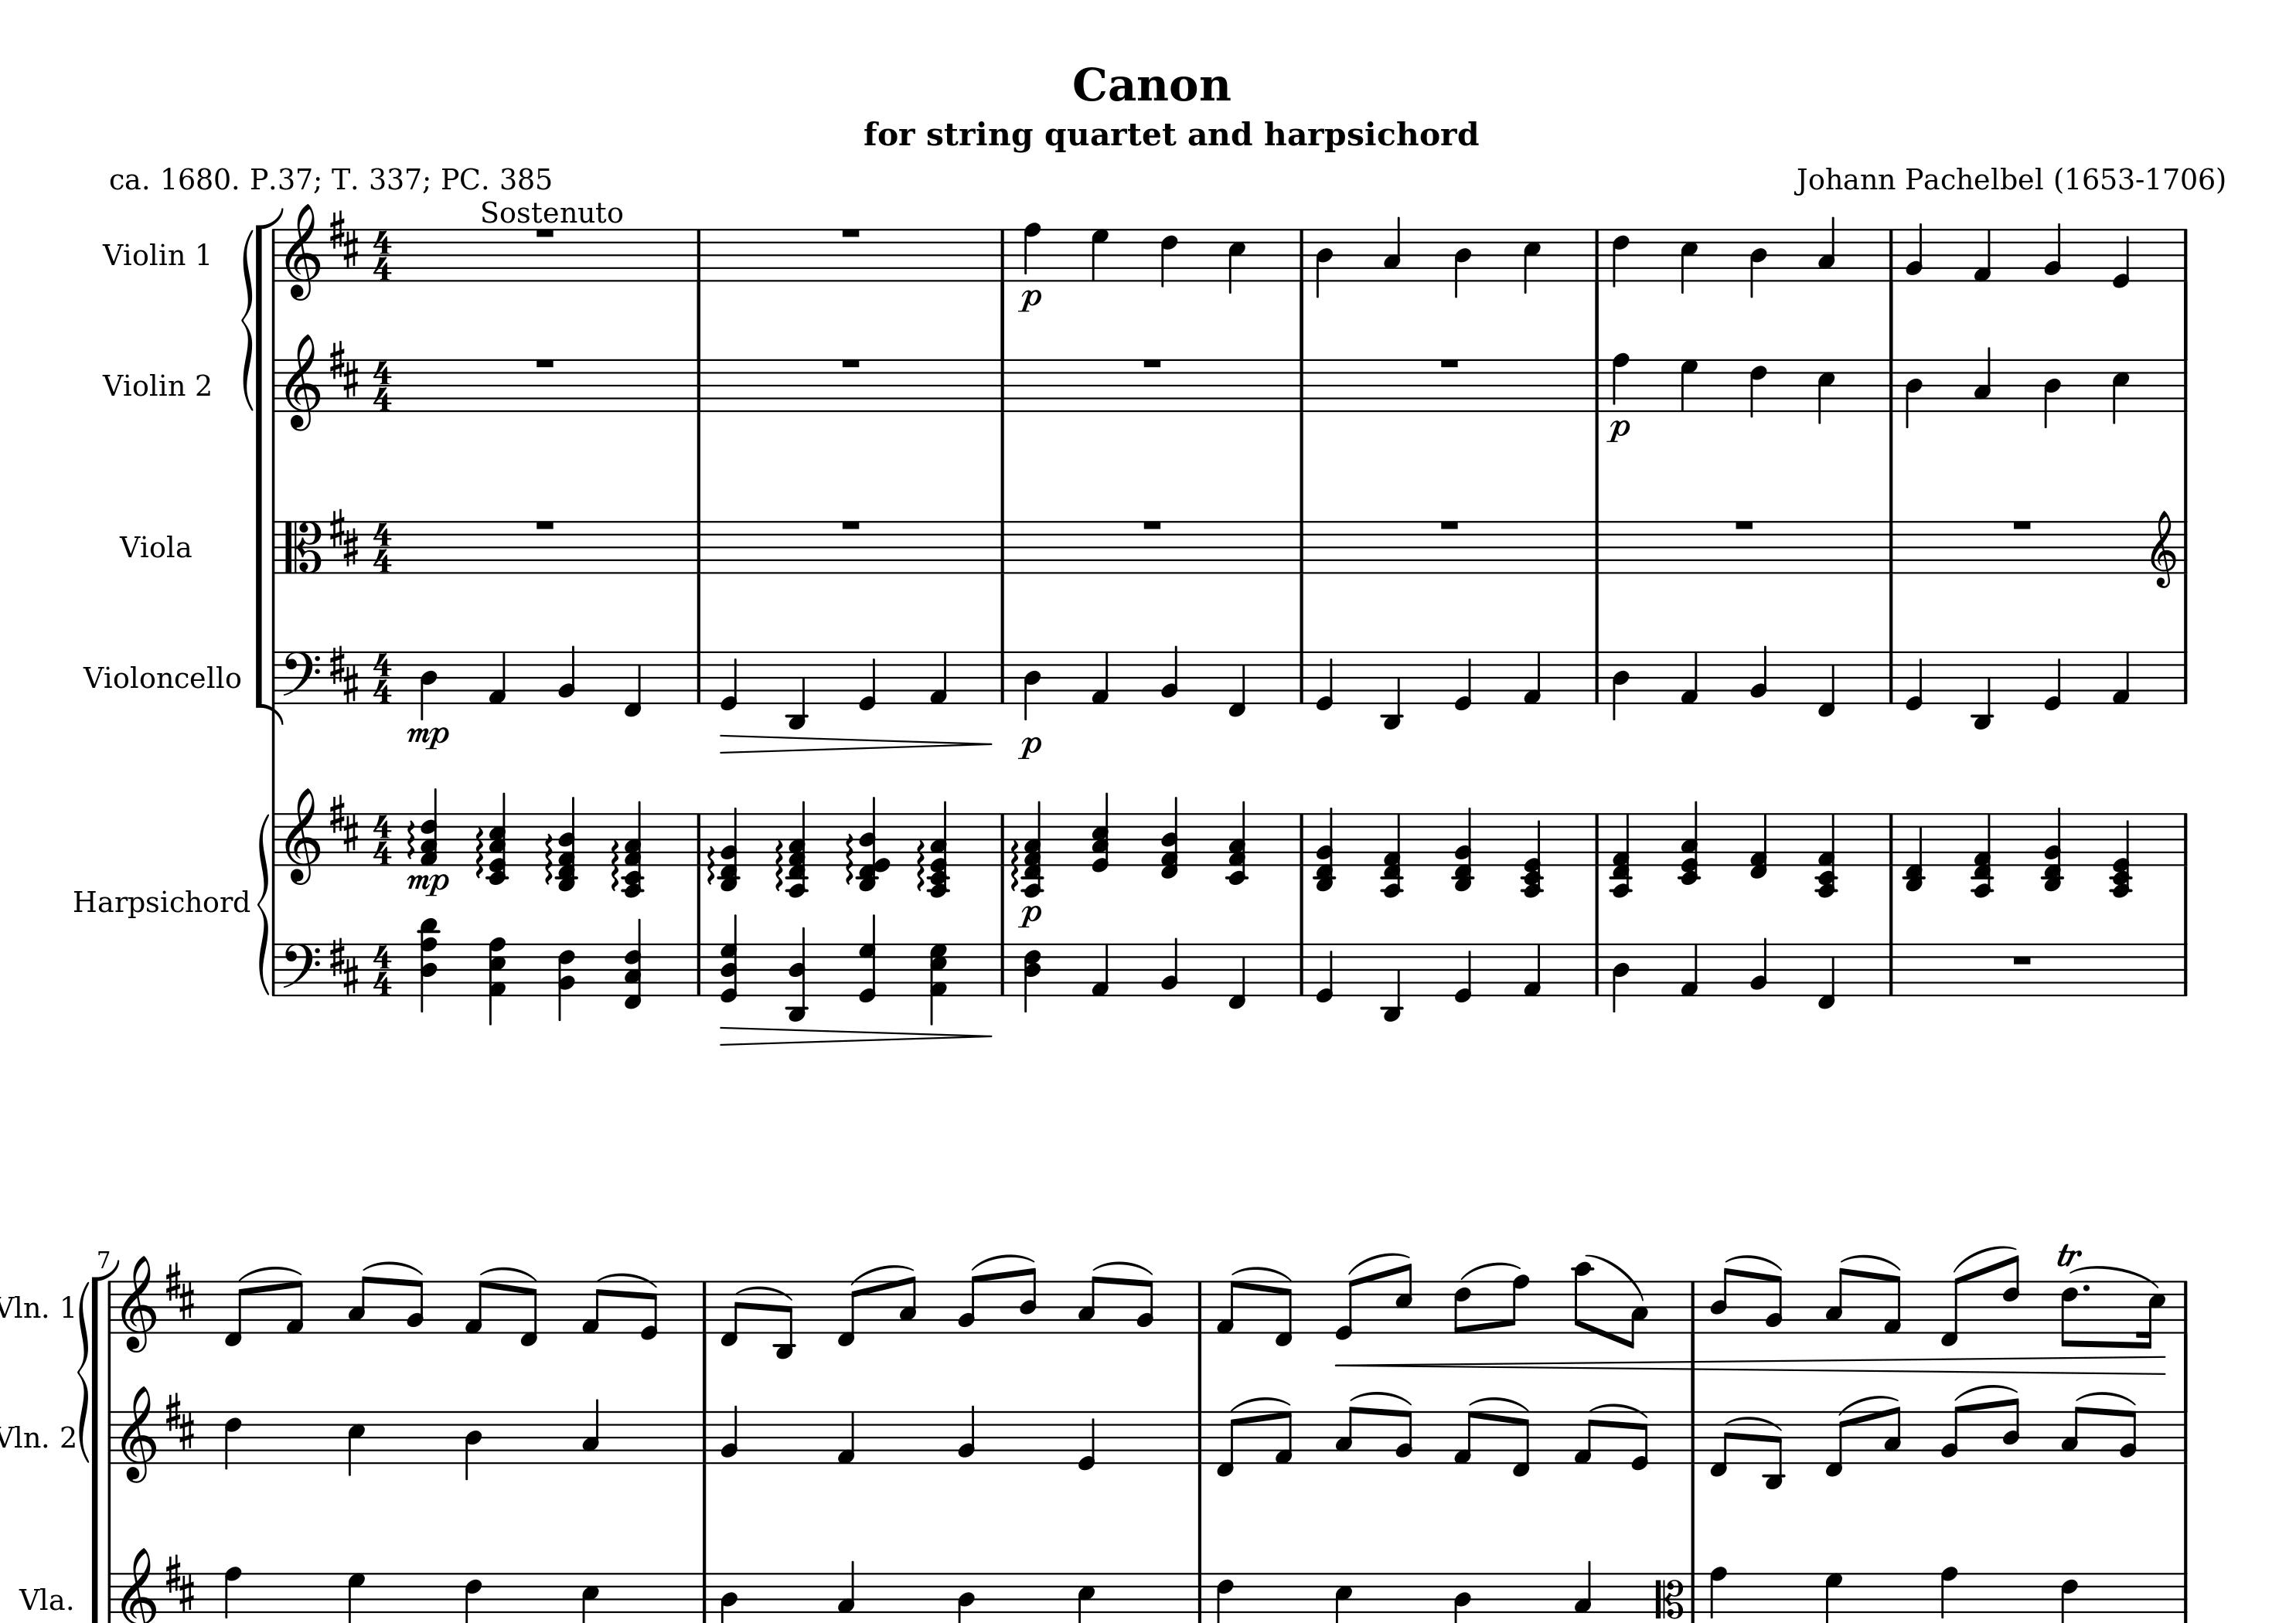16_5: (2136, 1279, 2166, 1351)
4: (371, 941, 393, 970), (371, 970, 393, 996), (372, 228, 393, 255), (372, 253, 393, 279), (372, 385, 393, 411), (372, 520, 393, 546), (372, 546, 393, 573), (371, 676, 392, 703), (372, 811, 393, 838), (372, 838, 393, 864), (372, 357, 392, 385), (372, 650, 392, 676)
4_-1: (622, 648, 643, 718), (1226, 648, 1247, 718), (1816, 648, 1838, 718), (1226, 940, 1247, 1010), (1816, 940, 1838, 1010)
4_-1_1: (1748, 811, 1769, 878)
4_-3: (785, 646, 808, 731), (1971, 646, 1994, 731), (1381, 940, 1404, 1022), (1381, 648, 1404, 729)
4_-3_-1: (1903, 811, 1929, 892)
4_-3_4: (785, 927, 810, 1022)
4_0: (718, 648, 740, 711), (1314, 648, 1335, 711), (1314, 940, 1335, 1003), (1453, 940, 1474, 1003), (2112, 227, 2131, 290), (857, 648, 877, 711), (1453, 648, 1472, 711), (1904, 648, 1924, 711), (2043, 648, 2062, 711), (1077, 1409, 1096, 1470)
4_0_7: (857, 915, 878, 1005)
4_1: (487, 650, 508, 706), (1521, 650, 1542, 706), (2110, 648, 2131, 704), (1089, 941, 1110, 998), (1521, 941, 1542, 998), (928, 650, 949, 704), (1089, 650, 1110, 704), (836, 1410, 857, 1465), (1973, 227, 1992, 283), (1679, 941, 1699, 998), (1679, 650, 1699, 704)
4_2: (2043, 220, 2064, 283), (1159, 934, 1180, 998), (1748, 934, 1769, 998), (957, 1402, 978, 1465), (1159, 643, 1180, 704), (1748, 643, 1769, 704), (720, 1403, 741, 1465), (1904, 220, 1924, 283), (557, 643, 576, 704)
4_2_6: (557, 941, 576, 1021)
4_3: (580, 1396, 601, 1465), (1383, 214, 1402, 283), (1816, 214, 1836, 283), (1973, 344, 1992, 413)
4_4: (1022, 648, 1043, 722), (1611, 648, 1632, 722), (1314, 227, 1335, 299), (2043, 357, 2062, 430), (1453, 227, 1472, 299), (1748, 227, 1767, 299), (1904, 357, 1924, 429), (420, 648, 439, 720), (1611, 940, 1630, 1012), (464, 1409, 483, 1481)
4_4_6: (1022, 941, 1042, 1013)
4_5: (1226, 227, 1247, 295), (346, 1409, 367, 1477), (1521, 227, 1541, 295), (1679, 227, 1699, 295), (1816, 357, 1836, 425), (2112, 357, 2131, 425)
4_6: (1748, 357, 1769, 420), (1159, 227, 1179, 290), (1611, 227, 1630, 288), (223, 1409, 242, 1470)
4_7: (1678, 357, 1700, 413), (1089, 227, 1110, 283)
4_8: (1609, 350, 1632, 411), (1021, 221, 1042, 281)
4_th: (857, 794, 891, 894), (778, 803, 805, 898), (926, 801, 950, 898), (416, 917, 441, 1012), (555, 794, 578, 892), (2108, 813, 2134, 898), (1451, 804, 1476, 894), (622, 796, 643, 899), (487, 790, 509, 885), (1678, 799, 1702, 887), (1609, 811, 1634, 899), (485, 933, 508, 1026), (717, 804, 741, 891), (2041, 804, 2064, 894), (1314, 806, 1337, 894), (1224, 799, 1247, 885), (1971, 811, 1994, 898), (1381, 811, 1404, 898), (1815, 811, 1838, 898), (622, 917, 643, 1010), (1158, 796, 1180, 880), (1521, 813, 1544, 898), (928, 936, 949, 1024), (1089, 792, 1110, 875), (720, 915, 740, 1005), (420, 787, 439, 868)
7: (97, 1249, 109, 1268)
8_-1: (1939, 1272, 1967, 1347), (834, 1277, 861, 1347), (223, 1279, 248, 1347), (718, 1279, 743, 1347), (1823, 1409, 1848, 1477), (1216, 1409, 1238, 1477), (1709, 1409, 1732, 1477), (518, 1279, 539, 1347), (1274, 1279, 1295, 1347), (1511, 1410, 1532, 1477)
8_-3: (773, 1279, 796, 1360), (1762, 1410, 1785, 1490)
8_0: (1333, 1275, 1360, 1340), (1628, 1410, 1650, 1472), (639, 1280, 659, 1340)
8_1: (1451, 1409, 1477, 1465), (464, 1277, 488, 1335), (580, 1279, 604, 1333), (1572, 1410, 1597, 1465), (1881, 1272, 1903, 1335), (1216, 1277, 1238, 1335), (285, 1277, 304, 1335), (1274, 1409, 1293, 1465)
8_10: (1572, 1259, 1593, 1335)
8_2: (956, 1272, 982, 1333), (1939, 1403, 1966, 1465), (1764, 1273, 1783, 1333), (406, 1277, 425, 1335), (1135, 1277, 1154, 1335), (2119, 1407, 2138, 1465), (1393, 1409, 1412, 1465)
8_3: (1625, 1277, 1648, 1349), (1825, 1266, 1850, 1333), (1333, 1403, 1360, 1465), (1077, 1273, 1103, 1333), (2059, 1403, 2083, 1465), (348, 1273, 372, 1333), (1883, 1403, 1903, 1465), (898, 1275, 917, 1333)
8_4: (1709, 1266, 1734, 1333), (1019, 1266, 1038, 1335), (2001, 1396, 2020, 1465)
8_5: (1393, 1261, 1414, 1335)
8_6: (2001, 1254, 2020, 1335), (2059, 1279, 2080, 1347), (1453, 1279, 1472, 1335)
8_8: (1504, 1272, 1530, 1333)
Arpeggio: (841, 827, 857, 892), (773, 831, 785, 891), (543, 831, 553, 889), (473, 826, 483, 878), (610, 840, 620, 892), (915, 840, 926, 892), (704, 845, 717, 885), (1010, 840, 1019, 889), (406, 819, 416, 859)
Brace: (239, 227, 255, 411), (256, 810, 271, 998), (76, 1275, 90, 1461)
Bracke: (251, 214, 278, 708)
Cclef: (283, 518, 323, 574), (1653, 1572, 1685, 1619)
Crescendo_hairpin: (1335, 1354, 2168, 1377)
D_S: (327, 506, 360, 567), (329, 337, 360, 397), (329, 643, 360, 703), (329, 792, 360, 852), (329, 934, 360, 994), (163, 1389, 195, 1449), (329, 209, 360, 267), (163, 1261, 195, 1319), (163, 1553, 195, 1611)
Diminuendo_hairpin: (718, 734, 993, 755), (720, 1024, 993, 1045)
Fclef: (281, 648, 321, 706), (281, 940, 320, 998)
Gclef: (283, 202, 321, 302), (283, 332, 321, 432), (285, 785, 321, 885), (119, 1384, 156, 1484), (119, 1256, 156, 1354), (119, 1546, 156, 1623), (2148, 508, 2178, 588)
Rests1: (532, 355, 557, 371), (838, 355, 863, 371), (1140, 355, 1165, 371), (532, 516, 557, 532), (1437, 516, 1462, 532), (1437, 355, 1463, 369), (838, 516, 864, 530), (2011, 515, 2034, 530), (532, 225, 557, 239), (838, 225, 863, 239), (1140, 516, 1165, 530), (1732, 516, 1757, 530), (2011, 952, 2034, 966)
Single_barline: (1588, 228, 1606, 281), (994, 358, 1012, 411), (1588, 358, 1606, 411), (690, 358, 708, 411), (1293, 358, 1310, 411), (994, 520, 1012, 573), (1293, 520, 1310, 573), (1588, 520, 1606, 573), (1881, 520, 1899, 573), (1191, 1572, 1209, 1623), (1883, 228, 1899, 281), (690, 228, 706, 281), (994, 228, 1010, 281), (1883, 358, 1899, 411), (2177, 358, 2192, 411), (1588, 650, 1604, 703), (1883, 650, 1899, 703), (994, 650, 1010, 703), (1883, 813, 1899, 866), (2177, 943, 2192, 996), (1193, 1410, 1209, 1463), (690, 522, 706, 573), (1588, 943, 1604, 994), (2178, 650, 2192, 704), (1295, 228, 1309, 281), (2178, 520, 2192, 573), (692, 650, 706, 703), (1295, 650, 1309, 703), (2178, 811, 2192, 864), (697, 1279, 711, 1331), (1193, 1280, 1207, 1333), (2178, 1280, 2192, 1333), (104, 1280, 118, 1333), (2178, 228, 2192, 279), (1295, 813, 1309, 864), (1590, 813, 1604, 864), (996, 943, 1010, 994), (1295, 943, 1309, 994), (1883, 943, 1897, 994), (697, 1410, 711, 1461), (1686, 1410, 1700, 1461), (2177, 1410, 2191, 1461), (697, 1572, 711, 1621), (2178, 1572, 2192, 1621), (1686, 1572, 1700, 1619), (267, 520, 279, 573), (104, 1410, 116, 1463), (692, 811, 704, 862), (996, 813, 1008, 864), (692, 943, 704, 994), (1686, 1280, 1699, 1331), (104, 1572, 116, 1621), (269, 650, 279, 704), (269, 811, 279, 864), (269, 230, 279, 281), (269, 360, 279, 411), (269, 943, 279, 994)
Slur: (1586, 1251, 1644, 1300), (2071, 1263, 2159, 1288), (1952, 1244, 2017, 1270), (1347, 1251, 1409, 1272), (850, 1263, 913, 1282), (596, 1270, 659, 1288), (1460, 1261, 1521, 1279), (1838, 1393, 1899, 1410), (970, 1252, 1035, 1268), (1953, 1382, 2018, 1398), (1467, 1395, 1532, 1410), (1091, 1258, 1154, 1273), (362, 1259, 425, 1275), (239, 1263, 302, 1279), (1725, 1251, 1781, 1268), (1839, 1252, 1901, 1268), (2075, 1389, 2136, 1405), (1230, 1395, 1291, 1410), (1588, 1402, 1650, 1417), (1231, 1263, 1291, 1279), (480, 1265, 538, 1280), (736, 1284, 794, 1300), (1725, 1414, 1783, 1430), (1349, 1389, 1414, 1403)
TimeSig: (371, 811, 393, 866), (371, 228, 393, 281), (371, 358, 393, 411), (371, 520, 393, 573), (371, 650, 393, 703), (371, 943, 393, 996)
Trill: (2054, 1240, 2082, 1266)
Vla: (19, 1581, 67, 1614)
Vln: (0, 1289, 42, 1323), (0, 1419, 42, 1453)
dot: (2080, 1282, 2090, 1293)
mp: (404, 724, 451, 752), (406, 871, 451, 898)
p: (1017, 286, 1043, 313), (1606, 418, 1632, 444), (1017, 734, 1043, 761), (1019, 901, 1042, 927)
